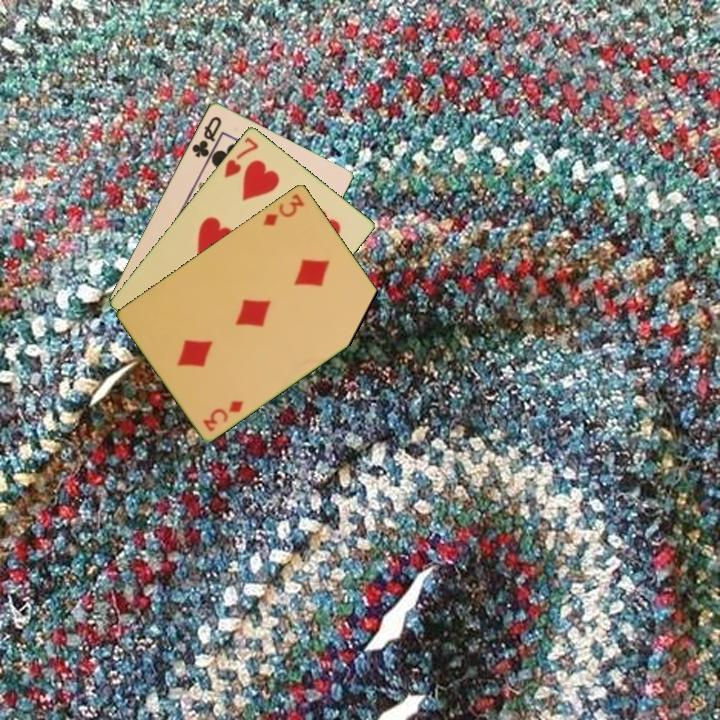3d: (259, 189, 307, 228), (199, 396, 246, 434)
7h: (220, 133, 262, 180)
Qc: (188, 112, 224, 160)
